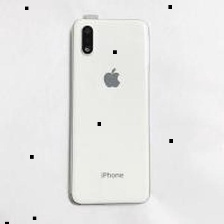phone: (63, 13, 154, 208)
